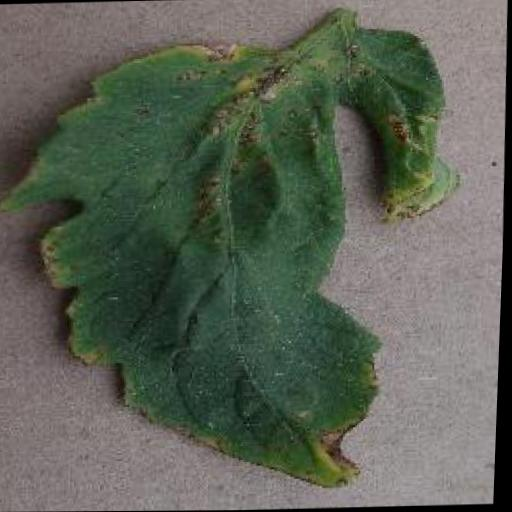Bacterial Spot: (0, 24, 470, 501)
